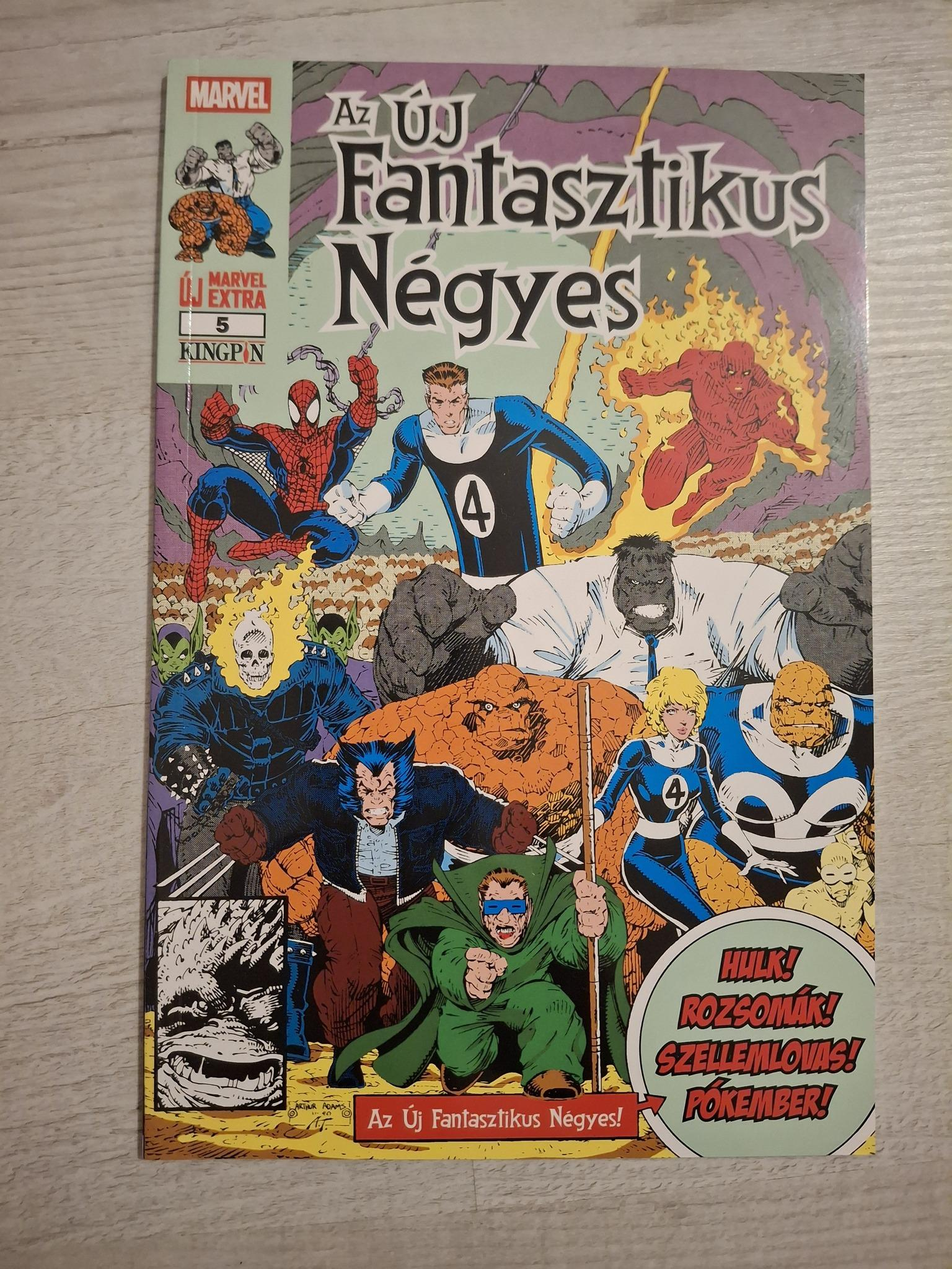comic: (144, 61, 876, 1159)
